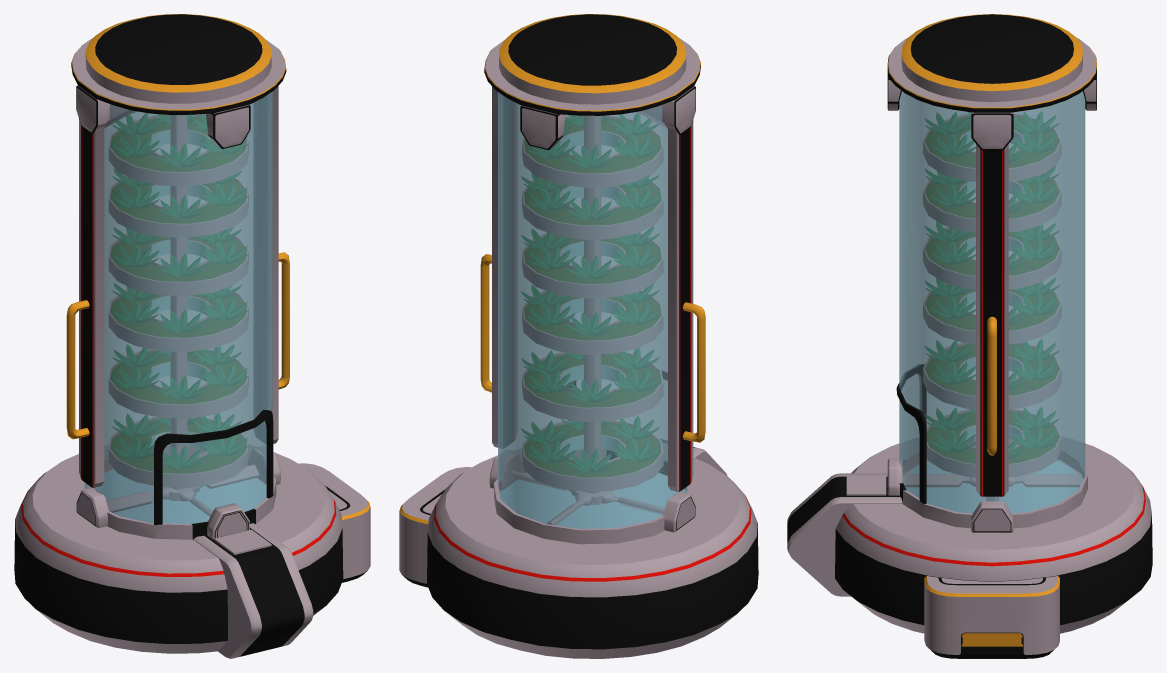
File: Oxygen Farm 2.fbx
3 renders of one model, left to right at view 1: azimuth 30°, elevation 25°; view 2: azimuth 150°, elevation 25°; view 3: azimuth 270°, elevation 25°, orthographic. The views are drawn at different scales.
Visible parts, largest first — view 1: Oxygen_Farm_2; view 2: Oxygen_Farm_2; view 3: Oxygen_Farm_2.
Boxes of the visible parts, left/top/right/bottom form: Oxygen_Farm_2: left=14, top=14, right=370, bottom=658; Oxygen_Farm_2: left=399, top=14, right=758, bottom=658; Oxygen_Farm_2: left=787, top=14, right=1152, bottom=658.
Bounding box in the file's own units: 210 × 350 × 217.
